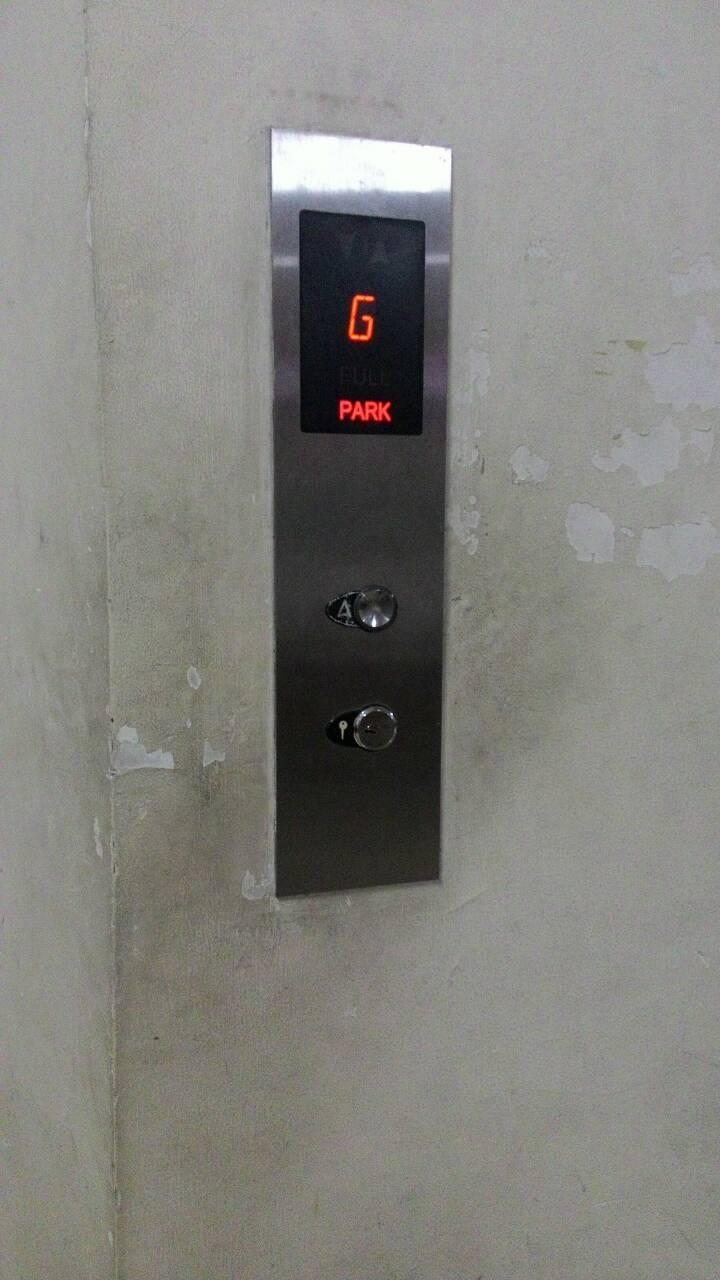keyhole: (321, 700, 401, 751)
led: (297, 211, 425, 439)
up: (320, 582, 398, 631)
